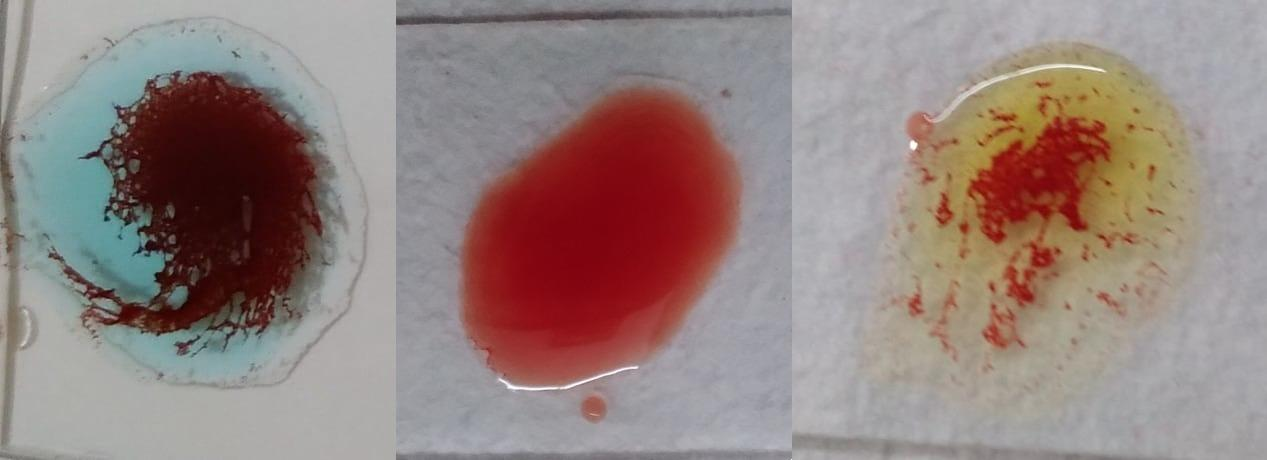A: (14, 13, 358, 390)
B: (882, 41, 1190, 406)
